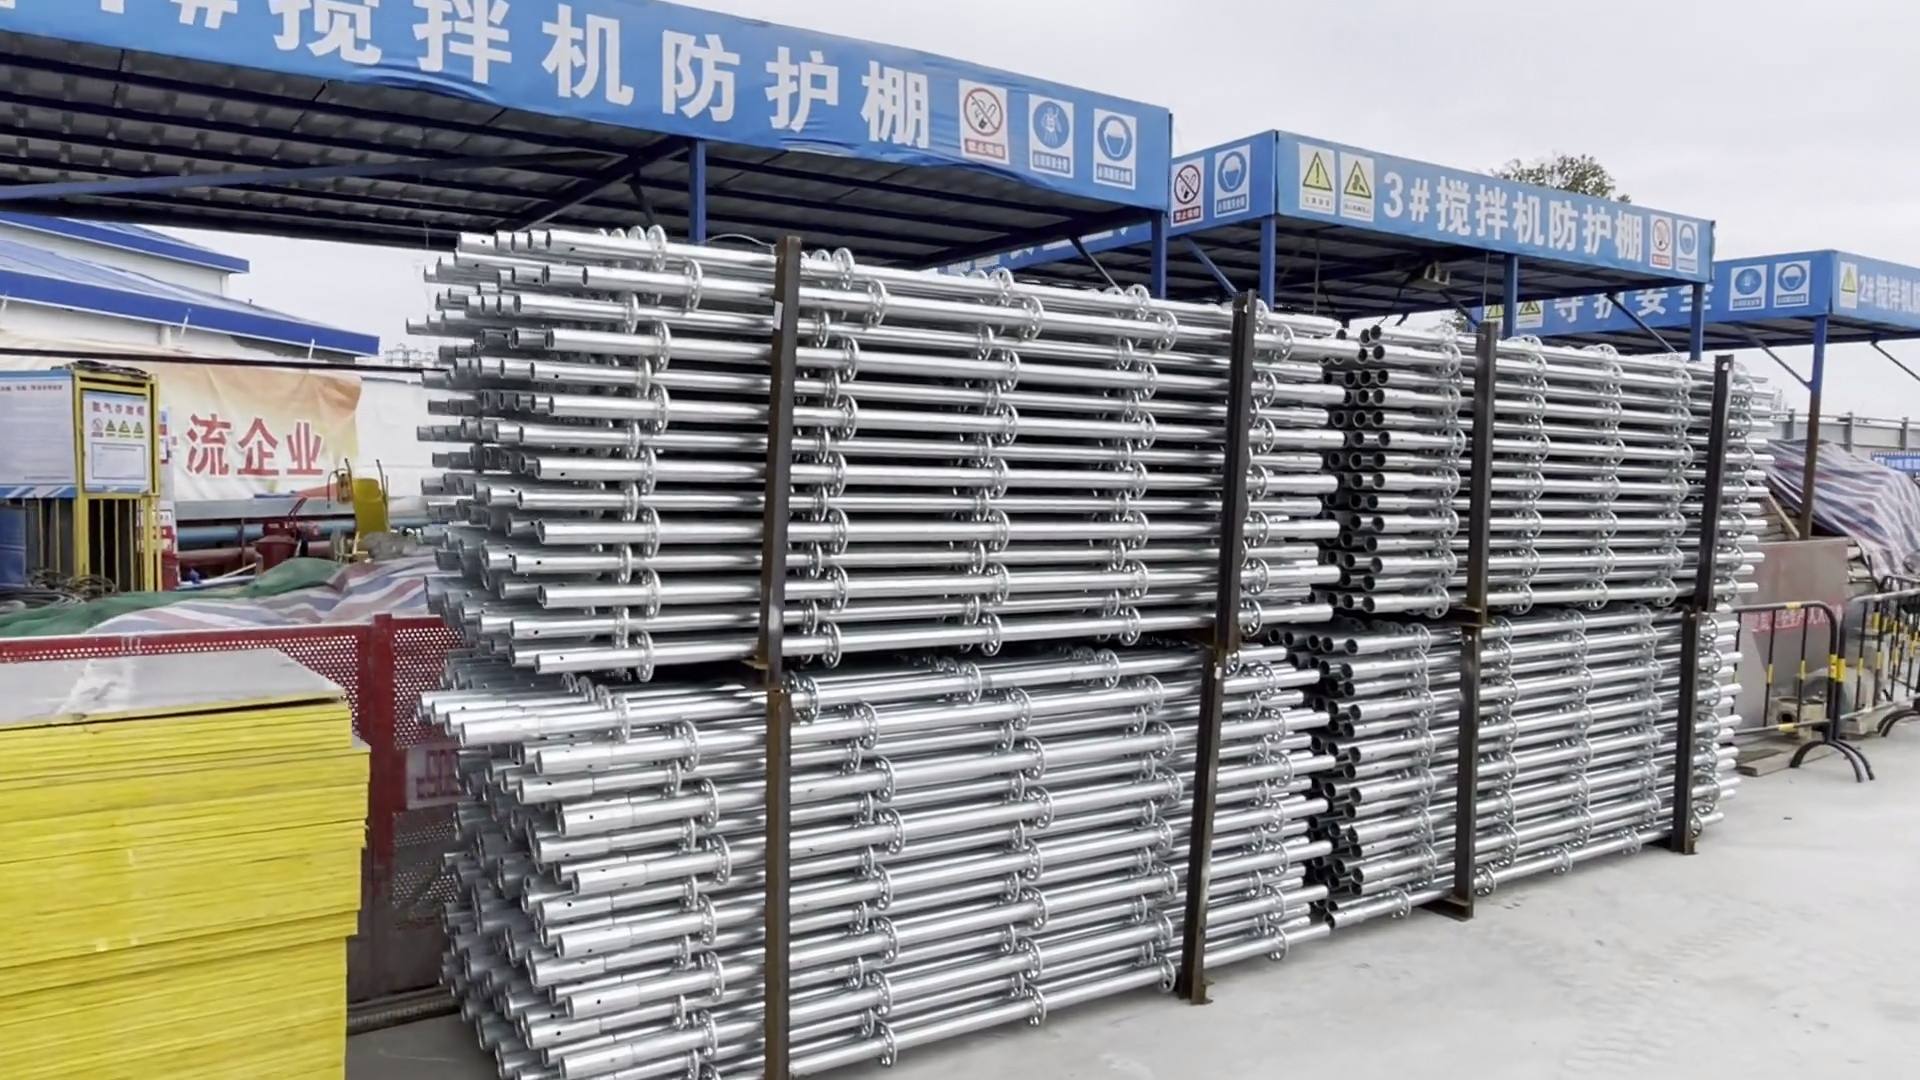board: (1, 645, 349, 1080)
scaffold: (423, 642, 1808, 1080), (419, 228, 1724, 663)
slogan: (1535, 247, 1912, 342), (934, 70, 1162, 198), (1160, 152, 1371, 219)
